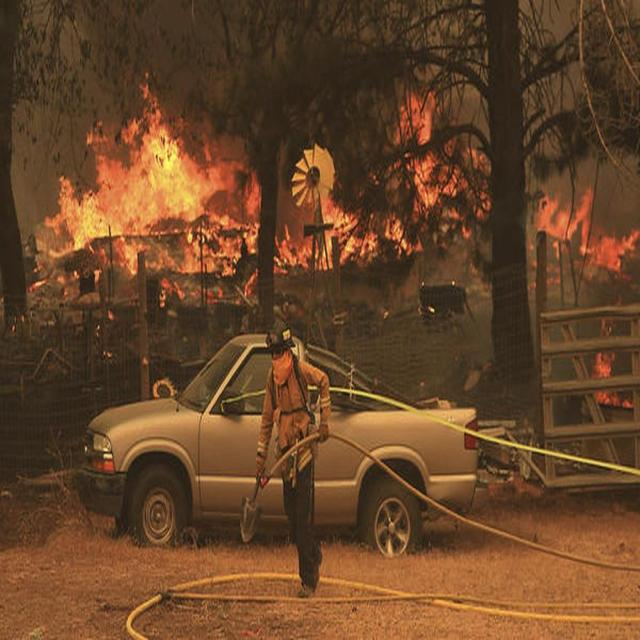fire: (42, 58, 256, 300), (280, 69, 466, 276)
